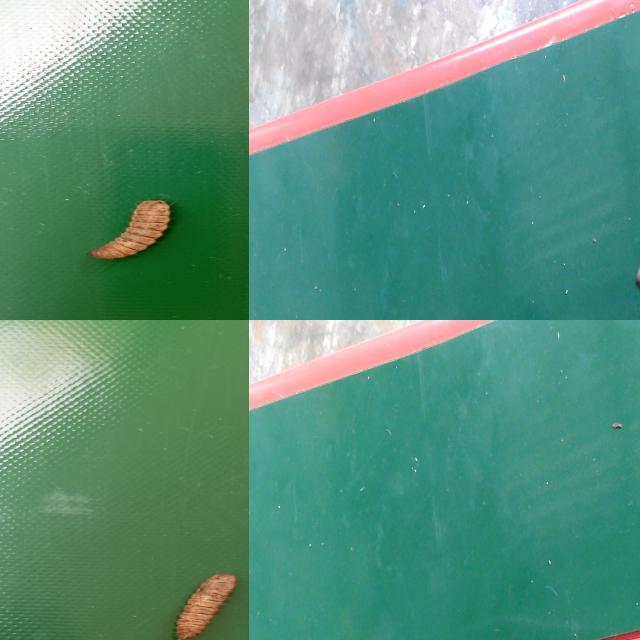Maggot: (90, 201, 175, 263), (172, 574, 238, 640)
